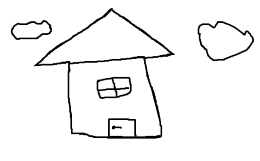closed_window: (96, 76, 132, 99)
clouds: (196, 19, 255, 62), (11, 20, 52, 40)
door: (103, 114, 138, 142)
roof: (34, 7, 174, 68)
wall: (64, 56, 161, 143)
